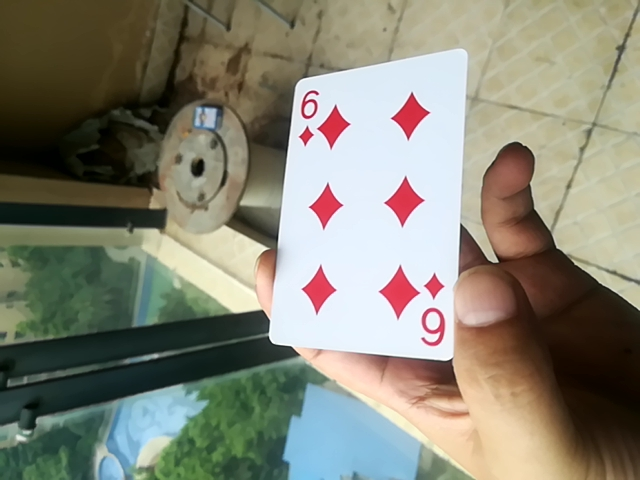fk 6: (269, 49, 475, 367)
